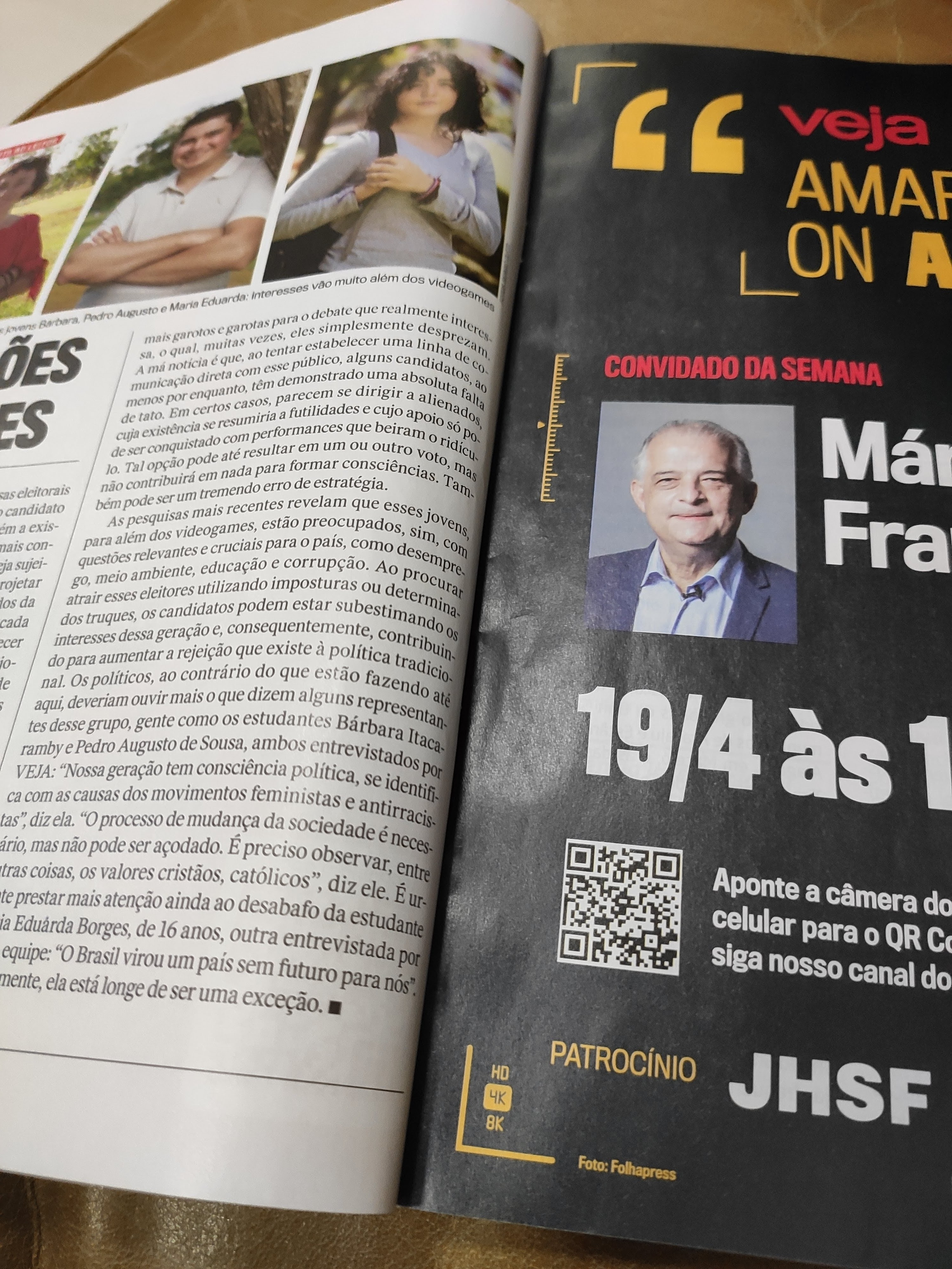QR-CODE: (560, 842, 680, 970)
